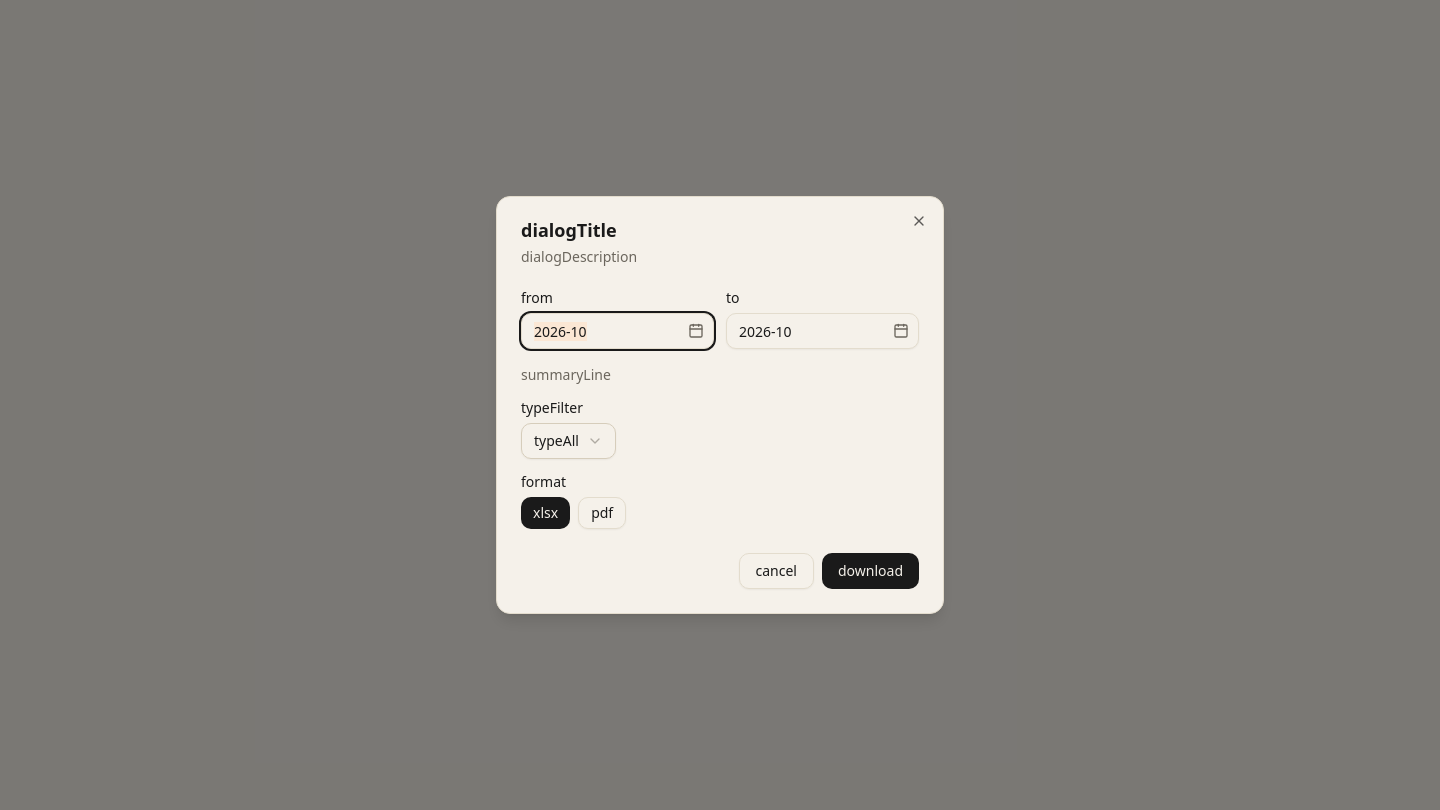
Scenario: InvoiceExportDialog — range validation UI › download button is disabled when only from is filled
Replace the text in the field with id "invoice-export-from" with "2026-01" at x=618, y=331, box [521,313,714,349]
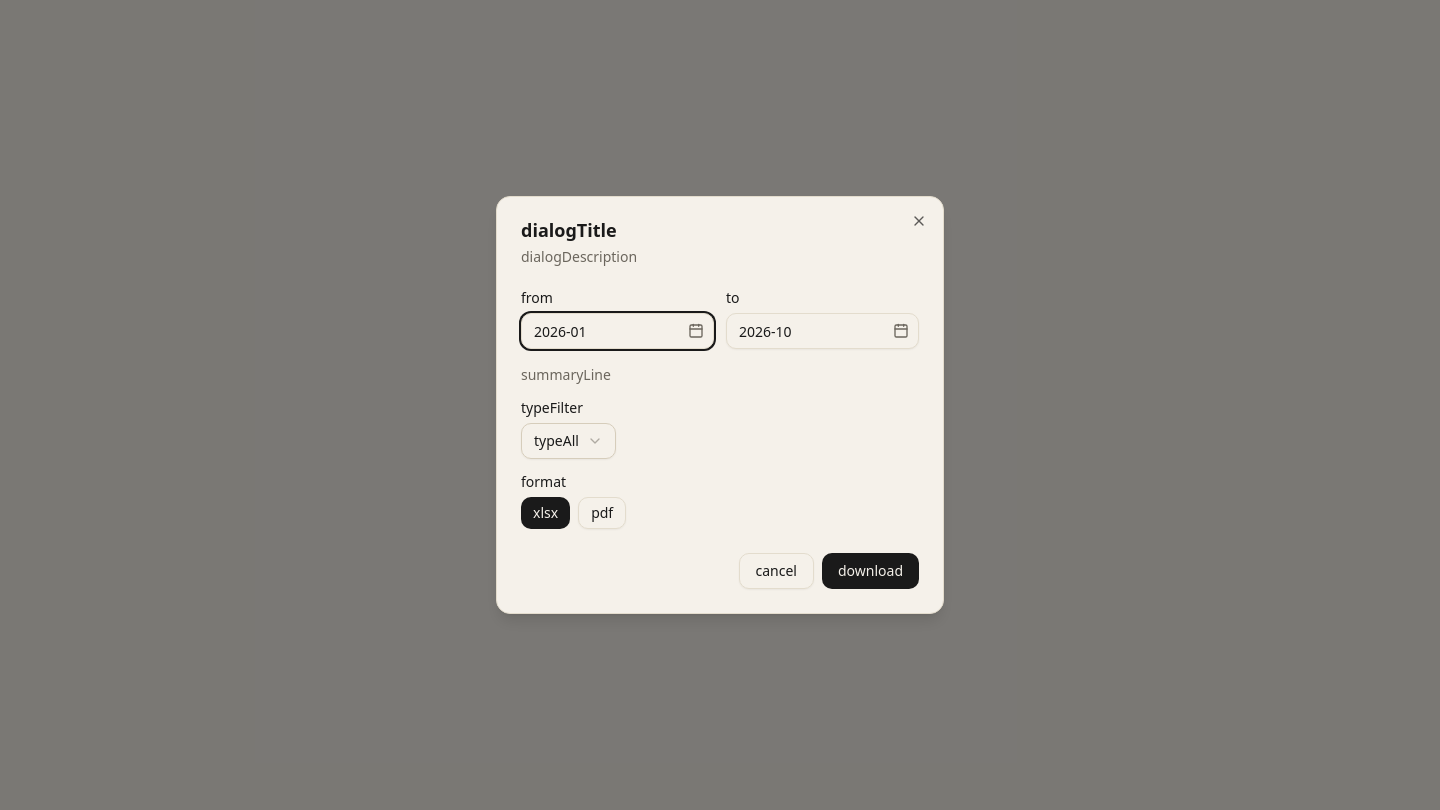
Clear the field with id "invoice-export-to" at x=822, y=331, box [726,313,919,349]
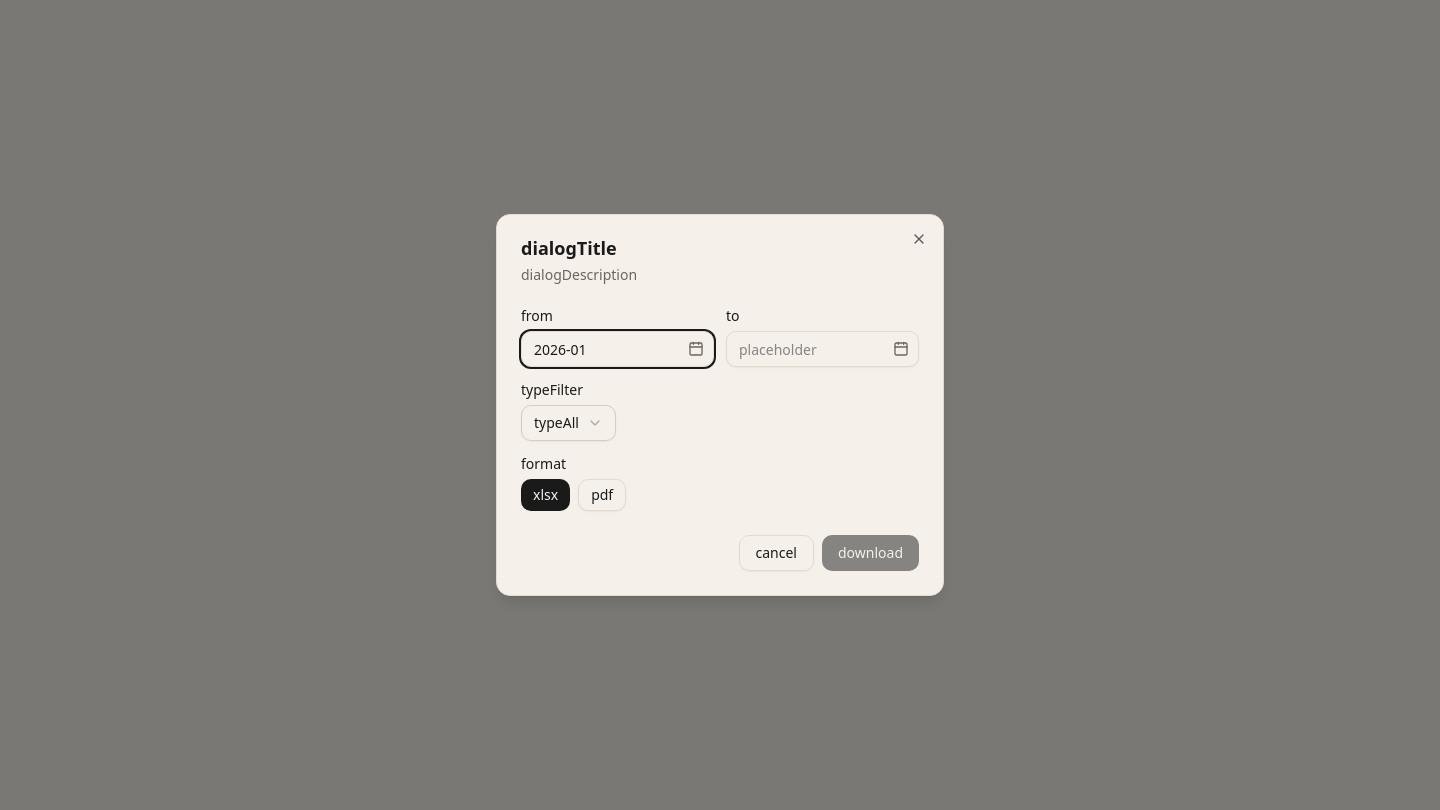
Now the button "download" is disabled, box [822,535,919,571]
